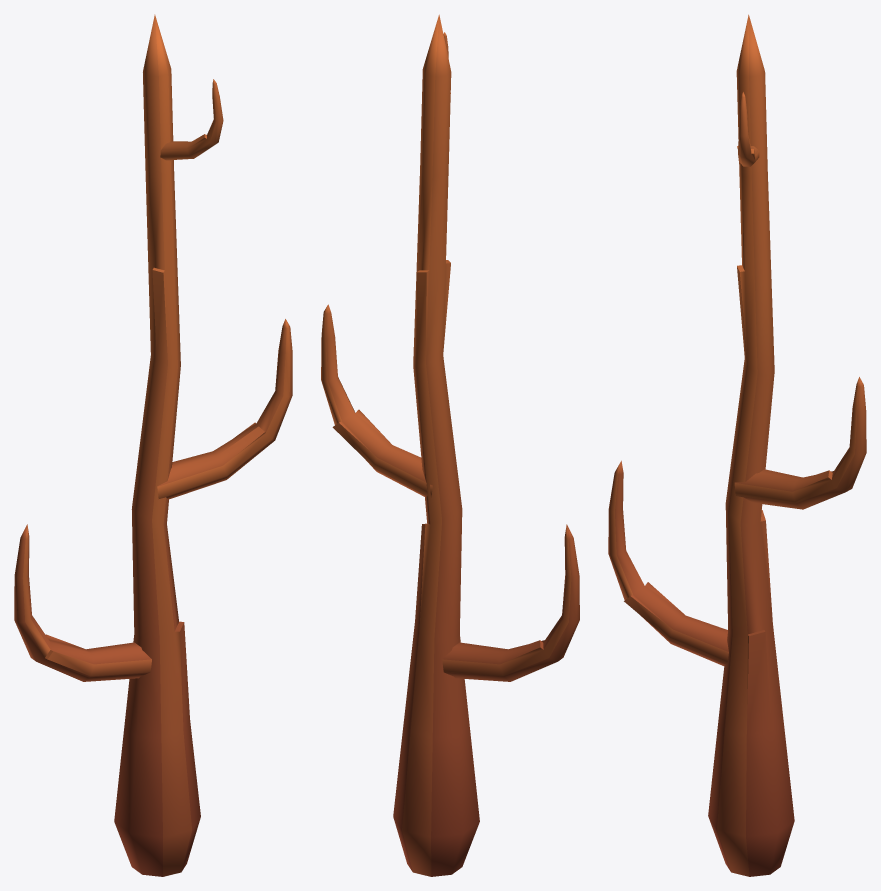
The model's file is Tree_Bare_2_B.glb.
3 renders of one model, left to right at view 1: azimuth 30°, elevation 25°; view 2: azimuth 150°, elevation 25°; view 3: azimuth 330°, elevation 25°, orthographic.
Visible parts, largest first — view 1: Tree_Bare_2_B_Color1; view 2: Tree_Bare_2_B_Color1; view 3: Tree_Bare_2_B_Color1.
Boxes of the visible parts, x1,y1,x2,y2 form: Tree_Bare_2_B_Color1: (14,14,292,876); Tree_Bare_2_B_Color1: (321,14,579,876); Tree_Bare_2_B_Color1: (608,14,866,876).
Size of the model in its own units: 1.79 by 5.54 by 0.6636.
Materials: 1 (1 with a texture image).
